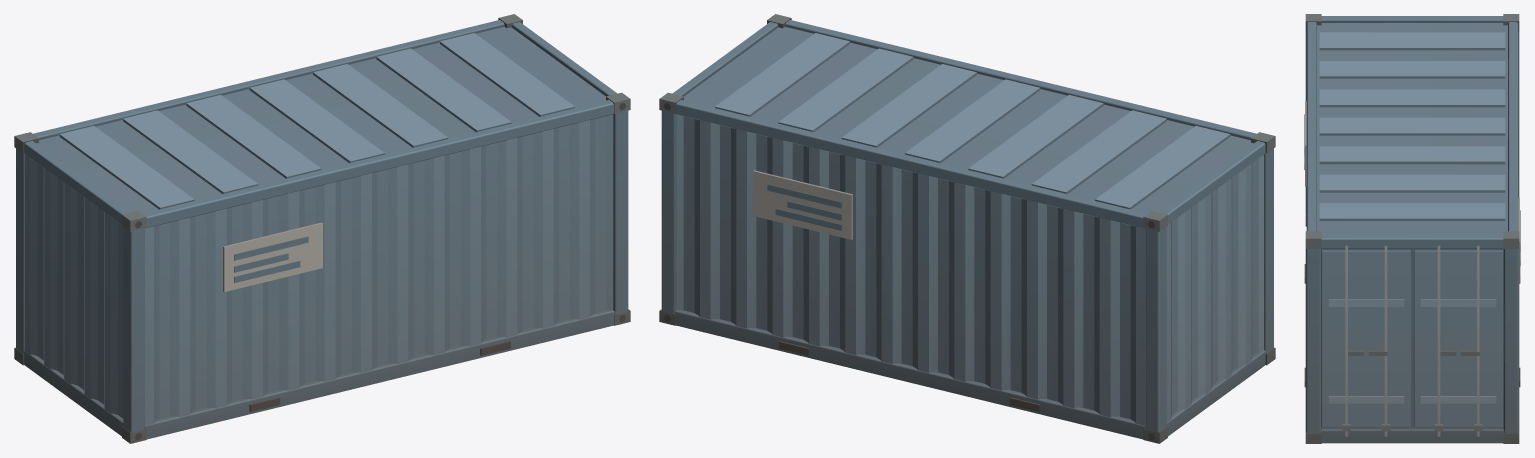
File: box_blue.glb
3 renders of one model, left to right at view 1: azimuth 30°, elevation 25°; view 2: azimuth 150°, elevation 25°; view 3: azimuth 270°, elevation 25°, orthographic. The views are drawn at different scales.
Bounding box in the file's own units: 6.1 × 2.59 × 2.47.
